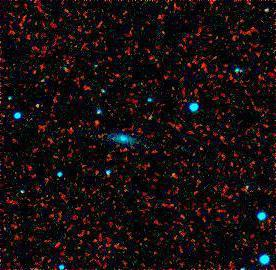star: (82, 108, 112, 138)
